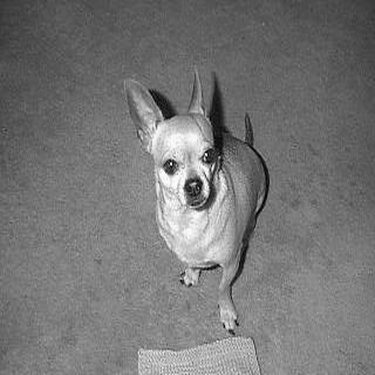dog: (104, 59, 271, 336)
